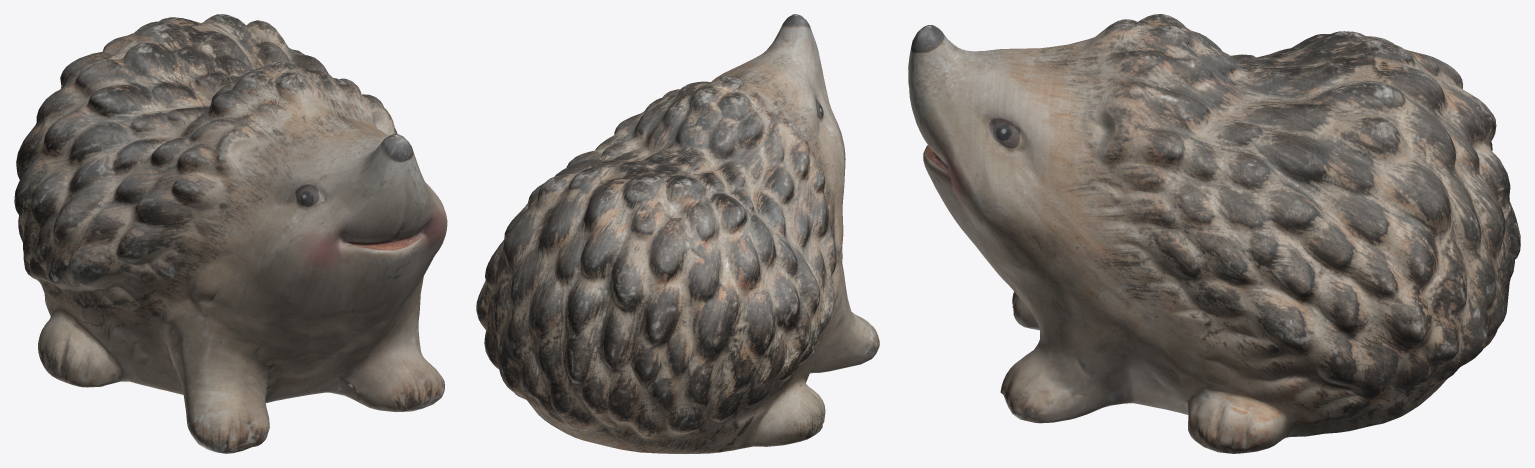
Rendered from hedgehog_garden_sculpture.glb.
3 renders of one model, left to right at view 1: azimuth 30°, elevation 25°; view 2: azimuth 150°, elevation 25°; view 3: azimuth 270°, elevation 25°, orthographic. The views are drawn at different scales.
Visible parts, largest first — view 1: Object_2; view 2: Object_2; view 3: Object_2.
Boxes of the visible parts, <box> form: Object_2: <box>14,14,447,453</box>; Object_2: <box>476,14,879,453</box>; Object_2: <box>908,14,1520,453</box>.
Bounding box in the file's own units: 3.82 × 3.34 × 5.27.
1 material, 1 textured.
